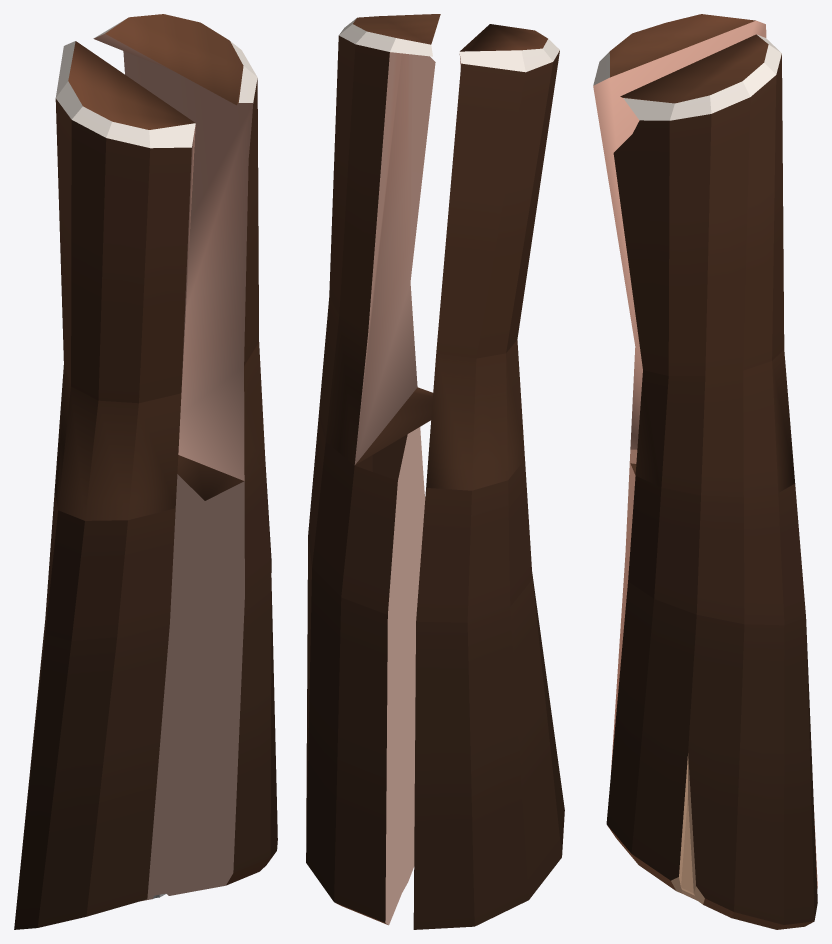
Rendered from odun_parcalanms_o.fbx.
3 views of the same model, side by side, from view 1: azimuth 30°, elevation 25°; view 2: azimuth 150°, elevation 25°; view 3: azimuth 270°, elevation 25° (orthographic). The views are drawn at different scales.
Parts seen in each view (by area): view 1: odun.001, odun.002, odun.004, odun.003; view 2: odun.002, odun.004, odun.001, odun.003; view 3: odun.004, odun.003, odun.001, odun.002.
Part boxes in pixels (bbox=[...]): odun.001: bbox=[54, 41, 195, 520]; odun.002: bbox=[14, 492, 175, 929]; odun.004: bbox=[141, 459, 277, 901]; odun.003: bbox=[93, 14, 265, 500]; odun.002: bbox=[413, 460, 564, 929]; odun.004: bbox=[306, 416, 425, 925]; odun.001: bbox=[426, 24, 559, 490]; odun.003: bbox=[318, 14, 440, 465]; odun.004: bbox=[606, 476, 817, 929]; odun.003: bbox=[613, 34, 794, 497]; odun.001: bbox=[593, 14, 766, 449]; odun.002: bbox=[610, 449, 817, 888].
Bounding box in the file's own units: 125 × 451 × 105.
1 material, 1 textured.
